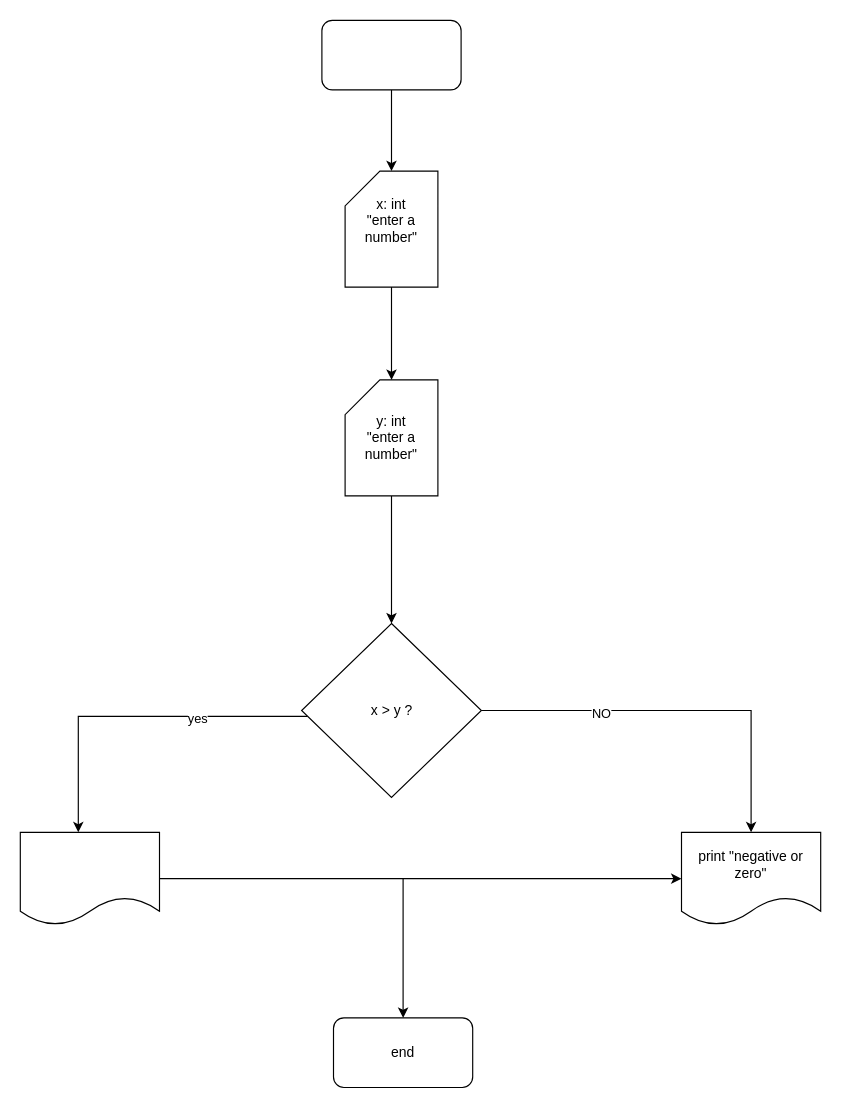
Image size: 841x1108. Some labels were removed from this diagram. Each missing label, with the centre of its shape:
print "positive": point 89,878
start: point 391,54
